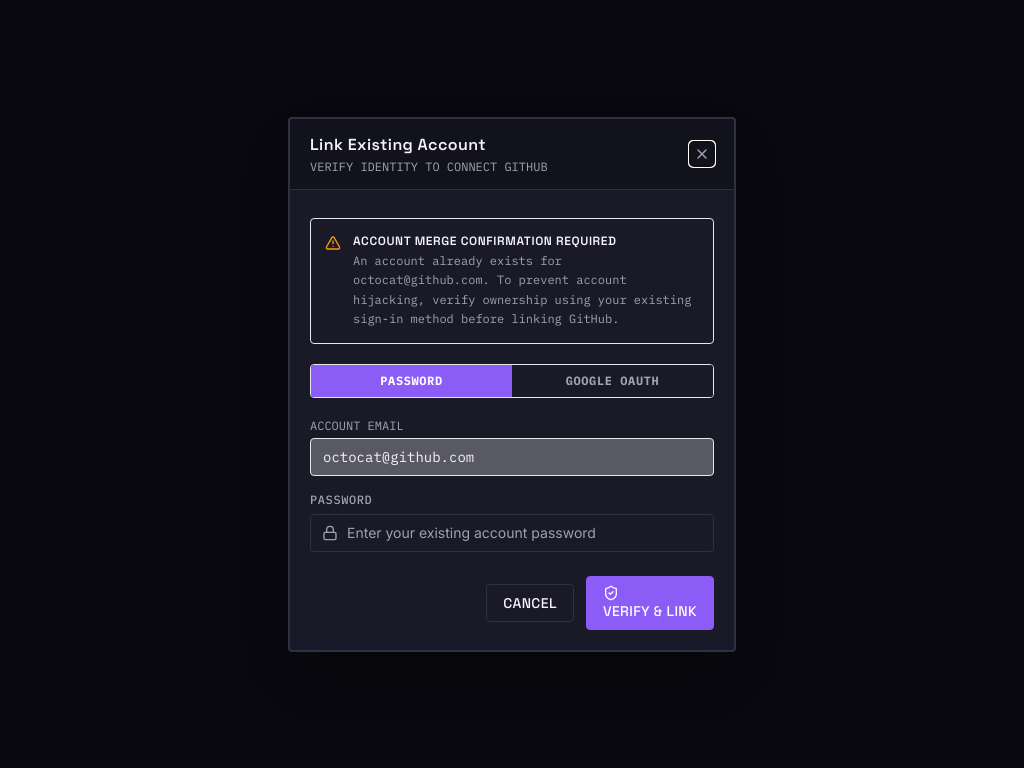
Test: AccountLinkingModal Component › validates empty password submission
Click the button "Verify & Link".
click(650, 602)  # box [586, 576, 714, 630]
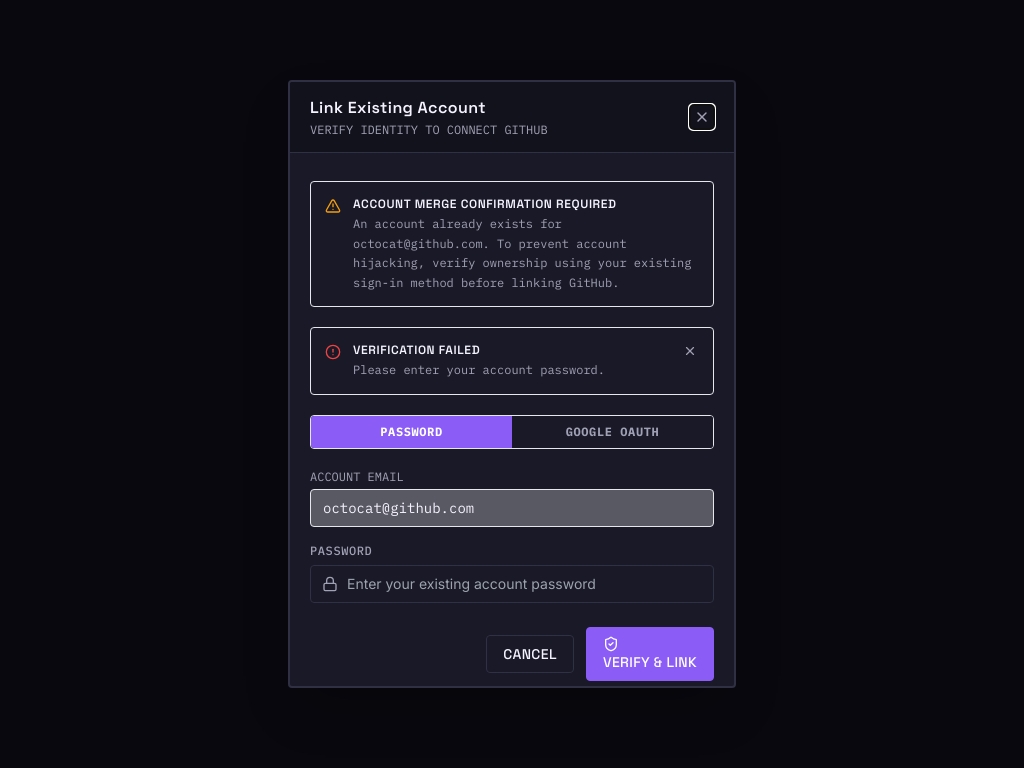
Now the text "Please enter your account password." is shown, box [353, 362, 605, 377]
